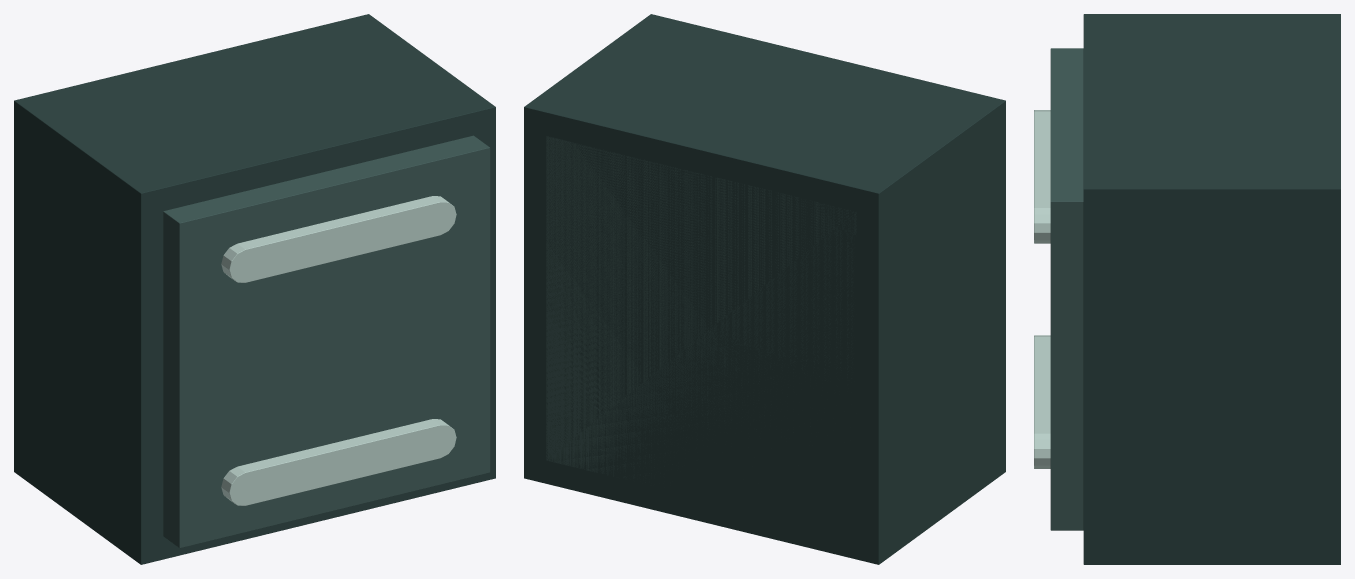
File: LockWall_Tile.gltf
3 views of the same model, side by side, from view 1: azimuth 30°, elevation 25°; view 2: azimuth 150°, elevation 25°; view 3: azimuth 270°, elevation 25° (orthographic).
Parts seen in each view (by area): view 1: LockWall_Tile_baked; view 2: LockWall_Tile_baked; view 3: LockWall_Tile_baked.
Part boxes in pixels (x1,y1,x2,y2): LockWall_Tile_baked: (14,14,495,564); LockWall_Tile_baked: (524,14,1005,564); LockWall_Tile_baked: (1034,14,1340,564).
Bounding box in the file's own units: 1 × 1 × 0.74.
